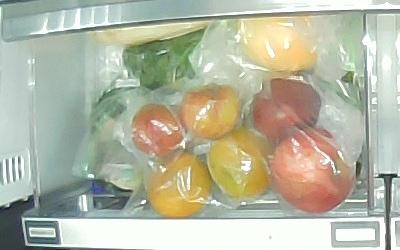apple_vinyl: (271, 127, 353, 214), (252, 79, 321, 143)
grapefruit_vinyl: (236, 16, 317, 71)
persimmon_vinyl: (208, 128, 273, 199), (147, 152, 214, 218)
prune_vinyl: (179, 84, 241, 141), (131, 103, 188, 156)
